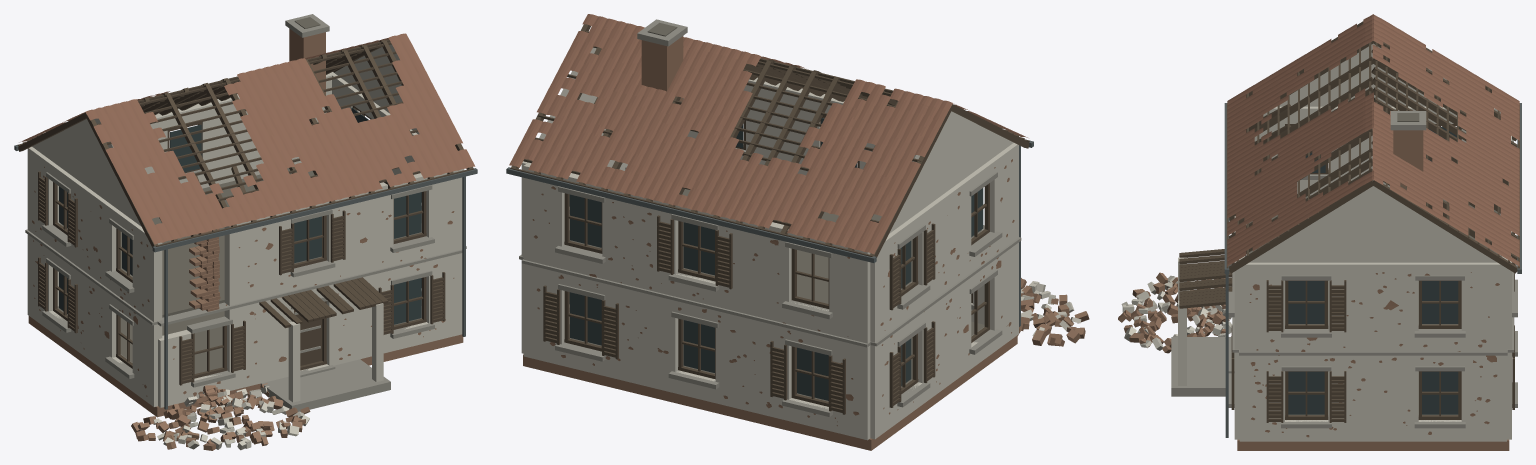
File: house_damaged.glb
The picture shows the model from 3 angles, left to right: view 1: azimuth 30°, elevation 25°; view 2: azimuth 150°, elevation 25°; view 3: azimuth 270°, elevation 25°; orthographic projection. The views are drawn at different scales.
Visible parts, largest first — view 1: plaster, roof, wood, trim, brick, interior, glass, metal; view 2: plaster, roof, wood, brick, trim, glass, metal, interior; view 3: plaster, roof, wood, trim, brick, glass, metal, interior.
Boxes of the visible parts, box(x1,y1,x2,y2) form: plaster: box(27, 44, 464, 450); roof: box(19, 33, 475, 244); wood: box(17, 39, 474, 385); trim: box(25, 14, 466, 411); brick: box(28, 28, 463, 450); interior: box(57, 17, 421, 373); glass: box(59, 107, 421, 324); metal: box(14, 145, 477, 409); plaster: box(521, 47, 1081, 440); roof: box(509, 14, 1027, 254); wood: box(510, 24, 1029, 414); brick: box(523, 36, 1089, 450); trim: box(519, 19, 1021, 416); glass: box(569, 118, 983, 400); metal: box(506, 140, 1033, 326); interior: box(569, 22, 984, 401); plaster: box(1121, 43, 1511, 441); roof: box(1227, 14, 1519, 266); wood: box(1179, 21, 1519, 422); trim: box(1171, 111, 1517, 428); brick: box(1118, 130, 1509, 450); glass: box(1245, 127, 1501, 414); metal: box(1224, 103, 1521, 437); interior: box(1249, 113, 1499, 415).
Bounding box in the file's own units: 13.57 × 10.38 × 12.7.
